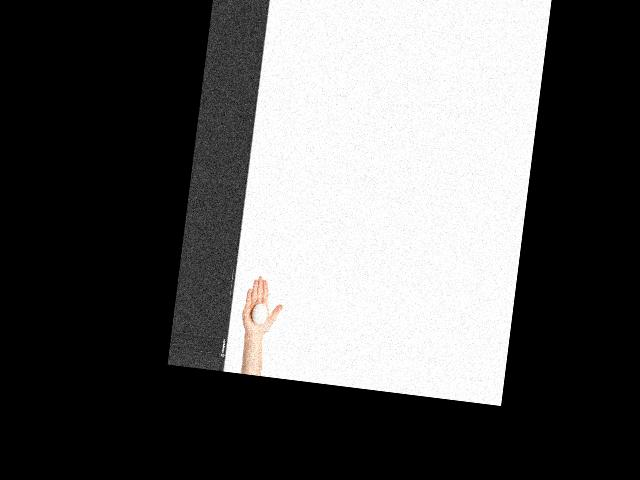egg: (251, 302, 268, 324)
